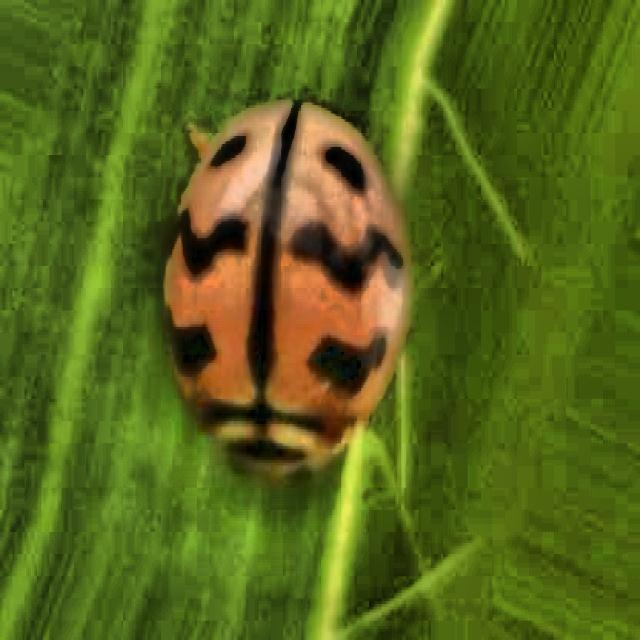Asian-Lady-beetle: (135, 62, 486, 520)
